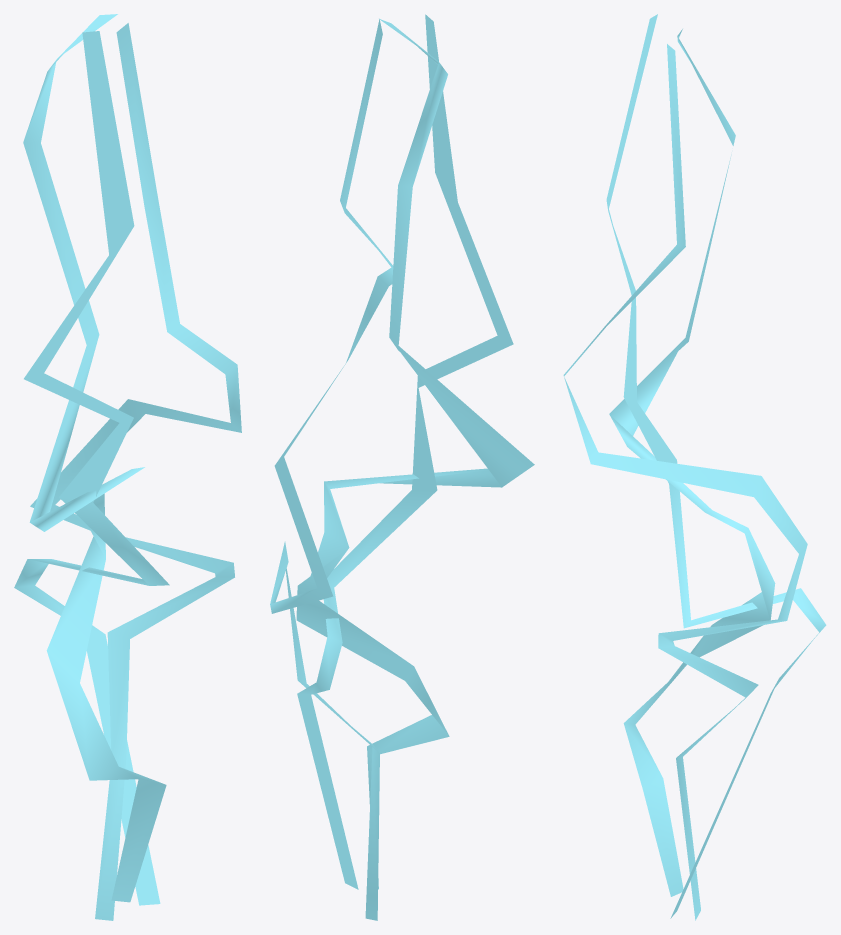
Rendered from electricidad_pasillo-003.gltf.
3 renders of one model, left to right at view 1: azimuth 30°, elevation 25°; view 2: azimuth 150°, elevation 25°; view 3: azimuth 270°, elevation 25°, orthographic. The views are drawn at different scales.
Parts seen in each view (by area): view 1: Electr-Pasillo-f.003; view 2: Electr-Pasillo-f.003; view 3: Electr-Pasillo-f.003.
Boxes of the visible parts, x1=… form: Electr-Pasillo-f.003: x1=14, y1=14, x2=241, y2=920; Electr-Pasillo-f.003: x1=270, y1=14, x2=534, y2=920; Electr-Pasillo-f.003: x1=563, y1=14, x2=826, y2=920.
Size of the model in its own units: 1.33 by 5.04 by 1.36.
1 material, 1 textured.
